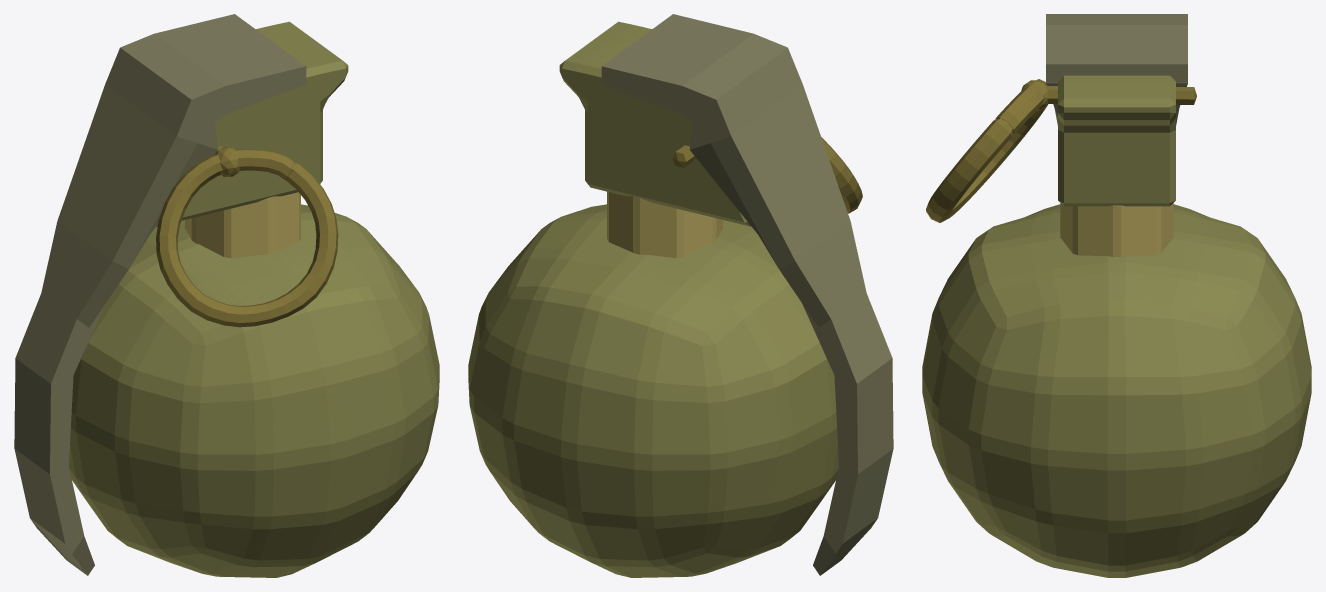
The model's file is Grenade.fbx.
The picture shows the model from 3 angles, left to right: view 1: azimuth 30°, elevation 25°; view 2: azimuth 150°, elevation 25°; view 3: azimuth 270°, elevation 25°; orthographic projection.
Visible parts, largest first — view 1: Cubo, Cubo.003, Cubo.002, Cubo.004, Cubo.001, Esfera geodésica; view 2: Cubo, Cubo.003, Cubo.002, Cubo.001, Cubo.004; view 3: Cubo, Cubo.002, Cubo.003, Cubo.001, Cubo.004, Esfera geodésica.
Part boxes in pixels (x1,y1,x2,y2): Cubo: (69, 204, 439, 577); Cubo.003: (14, 14, 306, 575); Cubo.002: (156, 21, 348, 226); Cubo.004: (156, 149, 338, 327); Cubo.001: (185, 192, 300, 258); Esfera geodésica: (215, 145, 240, 176); Cubo: (468, 204, 838, 577); Cubo.003: (601, 14, 893, 575); Cubo.002: (559, 21, 751, 226); Cubo.001: (607, 191, 722, 258); Cubo.004: (821, 137, 862, 213); Cubo: (922, 204, 1311, 577); Cubo.002: (1058, 75, 1175, 206); Cubo.003: (1046, 14, 1187, 125); Cubo.001: (1060, 203, 1173, 256); Cubo.004: (926, 79, 1048, 222); Esfera geodésica: (1021, 80, 1196, 109).
Bounding box in the file's own units: 23.95 × 31 × 21.46.
